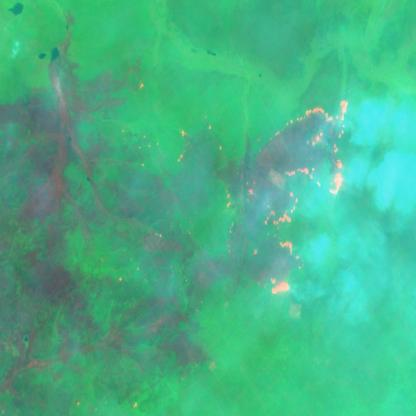fire: (246, 94, 350, 302)
